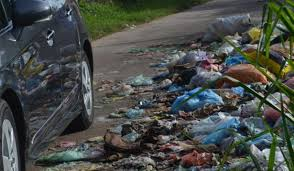garbage: (117, 76, 291, 171), (187, 26, 294, 171)
